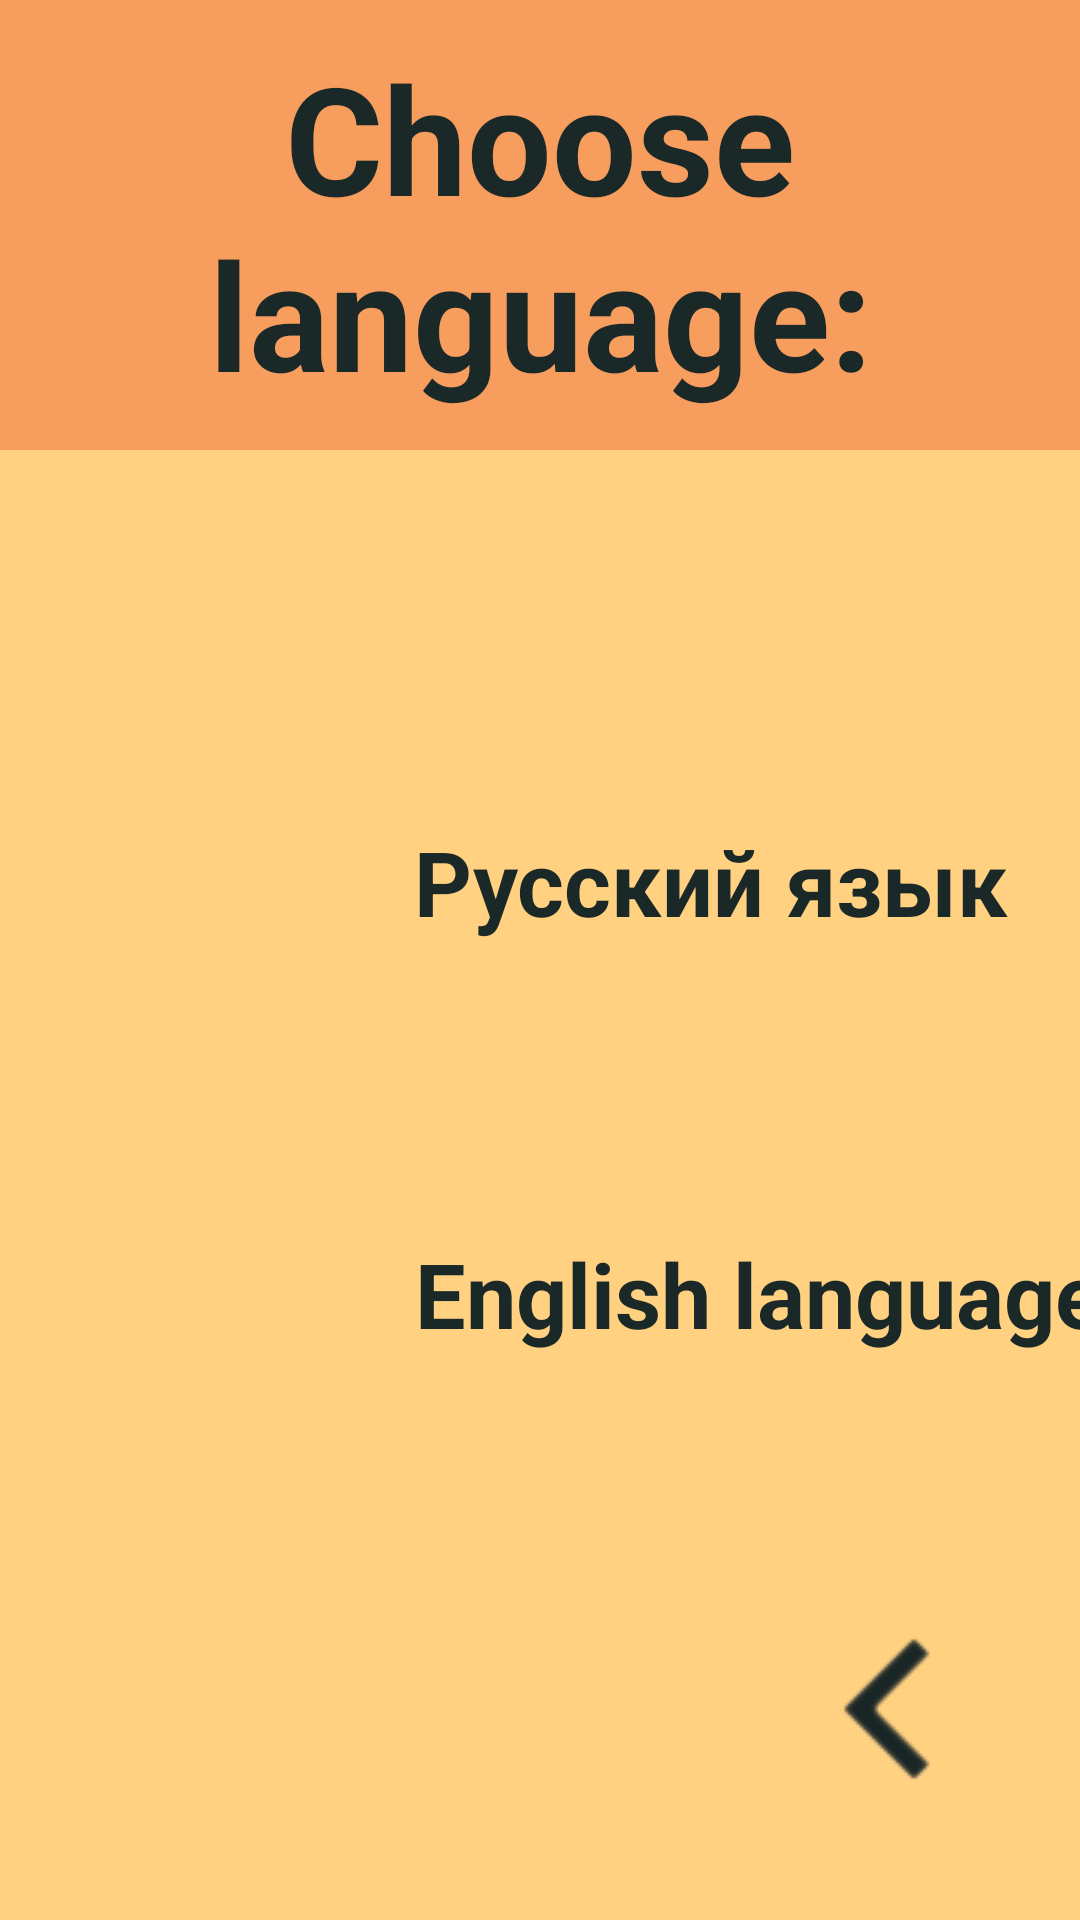

Point at icon controls on the screen. Image size 1080 × 1920, points as (x=x, y=y).
navigate before: (x=887, y=1709)
